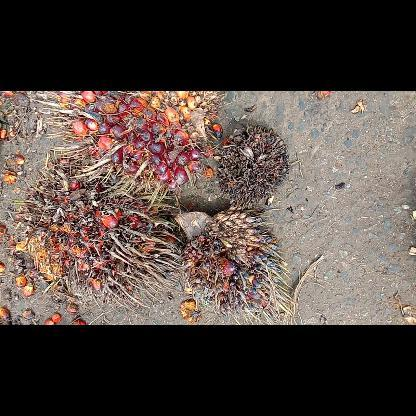TBS abnormal: (172, 208, 296, 324), (215, 120, 291, 206)
TBS masak: (29, 90, 219, 192)
Terlalu masak: (13, 157, 185, 306)
